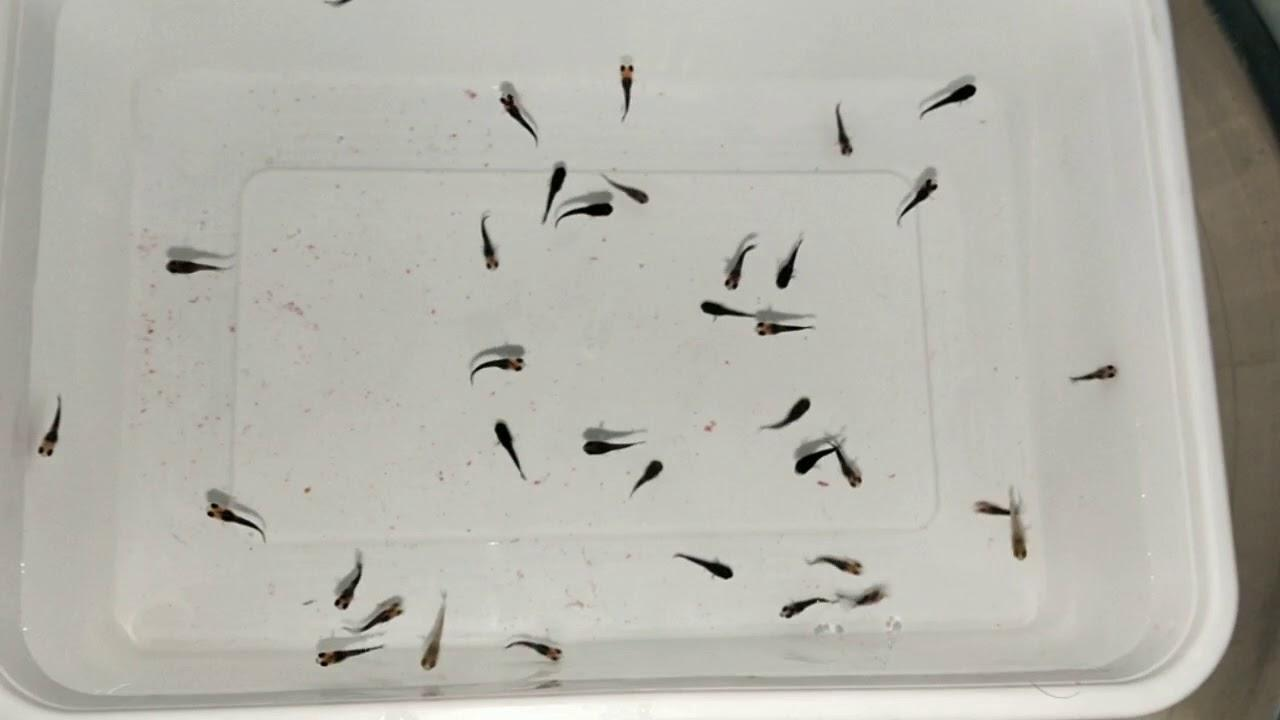fish: (452, 188, 520, 289), (414, 581, 465, 688), (194, 494, 280, 554), (490, 622, 577, 675), (158, 249, 249, 297), (485, 416, 545, 488), (905, 79, 990, 129), (1062, 348, 1141, 401), (885, 171, 951, 234), (490, 87, 549, 156), (662, 542, 749, 588), (622, 443, 681, 509), (772, 222, 820, 298), (748, 309, 829, 352), (1002, 482, 1040, 569), (461, 354, 538, 396), (606, 51, 647, 129), (596, 164, 658, 214), (820, 95, 860, 168), (791, 546, 870, 581), (825, 432, 866, 496), (577, 424, 647, 461)
